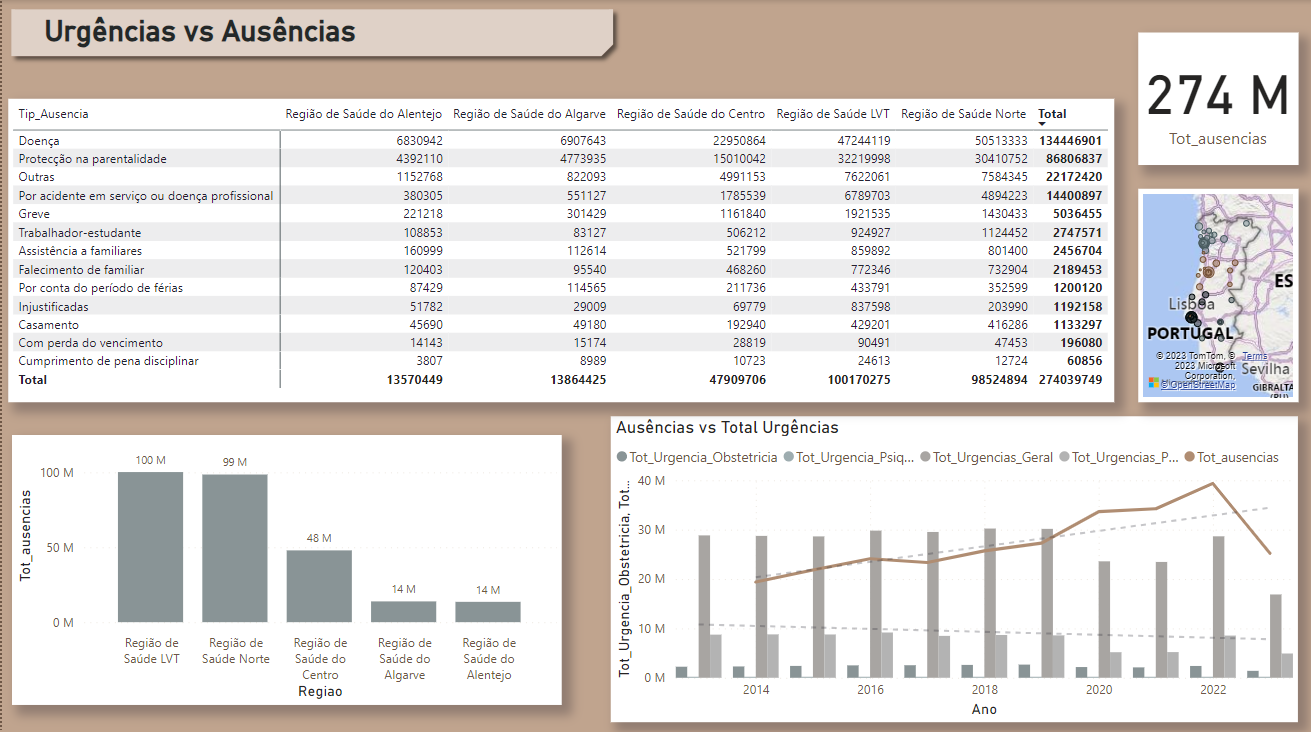

What the dashboard file says about the page in this screenshot:
{"tool":"powerbi","page":{"name":"Urgencias vs Ausencias","canvas":[1280,720],"ordinal":4},"visuals":[{"type":"lineClusteredColumnComboChart","title":"Ausências vs Total Urgências ","fields":{"Category":["Calendario.Ano"],"Y":["Medidas.Tot_Urgencia_Obstetricia","Medidas.Tot_Urgencia_Psiquiatrica","Medidas.Tot_Urgencias_Geral","Medidas.Tot_Urgencias_Pediatricas"],"Y2":["Medidas_ausencias.Tot_ausencias"]},"box":[595.3,407.1,672.3,299.5],"z":0},{"type":"card","fields":{"Values":["Medidas_ausencias.Tot_ausencias"]},"box":[1111.2,31.8,156.5,129.6],"z":1000},{"type":"shape","box":[0,0,606.6,63.9],"z":2000},{"type":"textbox","box":[37,8.2,356.5,49.4],"z":3000},{"type":"clusteredColumnChart","fields":{"Category":["contagem_dias_ausencia_trabalho_segundo_motivo_ausencia.Regiao"],"Y":["Medidas_ausencias.Tot_ausencias"]},"box":[9.8,425.4,537.9,264],"z":4000},{"type":"pivotTable","fields":{"Values":["Sum(contagem_dias_ausencia_trabalho_segundo_motivo_ausencia.Dias_Ausencia)"],"Rows":["contagem_dias_ausencia_trabalho_segundo_motivo_ausencia.Tip_Ausencia"],"Columns":["contagem_dias_ausencia_trabalho_segundo_motivo_ausencia.Regiao"]},"box":[6.1,96.6,1081.8,297],"z":5000},{"type":"map","fields":{"Size":["Sum(contagem_dias_ausencia_trabalho_segundo_motivo_ausencia.Dias_Ausencia)"],"Category":["contagem_dias_ausencia_trabalho_segundo_motivo_ausencia.Localizacao_Geografica"],"Series":["contagem_dias_ausencia_trabalho_segundo_motivo_ausencia.Regiao"]},"box":[1111.2,184.6,156.5,209],"z":6000}]}

Visuals, with their boxes in screenshot pixels (x1, y1, x2, y2), scaled from the page's 1280x720 canvas onto the 1311x732 screenshot:
"Ausências vs Total Urgências " lineClusteredColumnComboChart: 610/414/1298/718
card - Medidas_ausencias.Tot_ausencias: 1138/32/1298/164
shape: 0/0/621/65
textbox: 38/8/403/59
clusteredColumnChart - contagem_dias_ausencia_trabalho_segundo_motivo_ausencia.Regiao x Medidas_ausencias.Tot_ausencias: 10/432/561/701
pivotTable - Sum(contagem_dias_ausencia_trabalho_segundo_motivo_ausencia.Dias_Ausencia) x contagem_dias_ausencia_trabalho_segundo_motivo_ausencia.Tip_Ausencia: 6/98/1114/400
map - Sum(contagem_dias_ausencia_trabalho_segundo_motivo_ausencia.Dias_Ausencia) x contagem_dias_ausencia_trabalho_segundo_motivo_ausencia.Localizacao_Geografica: 1138/188/1298/400
